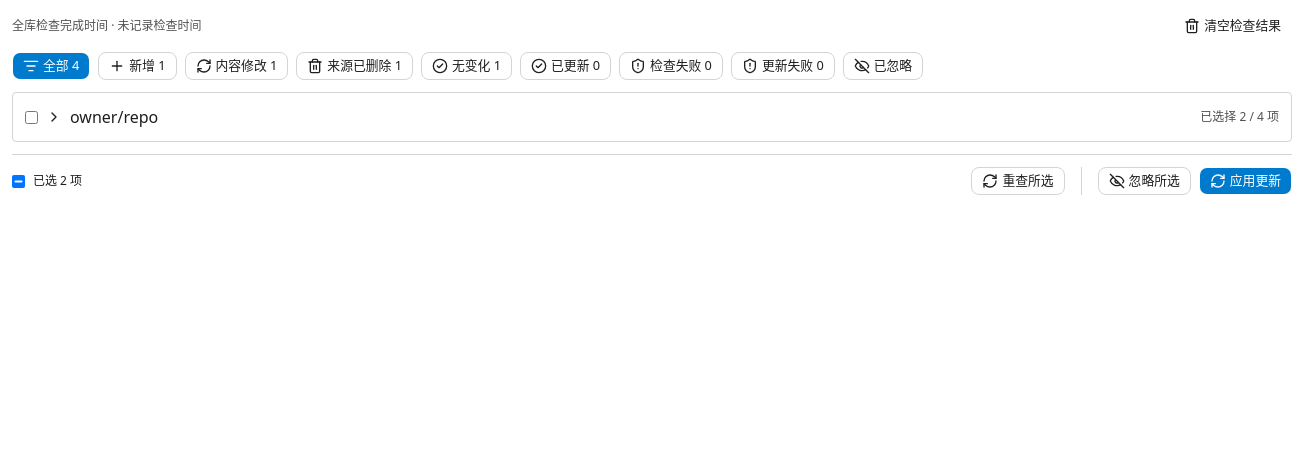
shows unchanged items under All and clears the check report without deleting skills
Expected: the button "全部 4" is shown, [12, 52, 90, 80]
Click the button "owner/repo 已选择 2 / 4 项" at {"x": 114, "y": 117}, box [46, 105, 1279, 129]
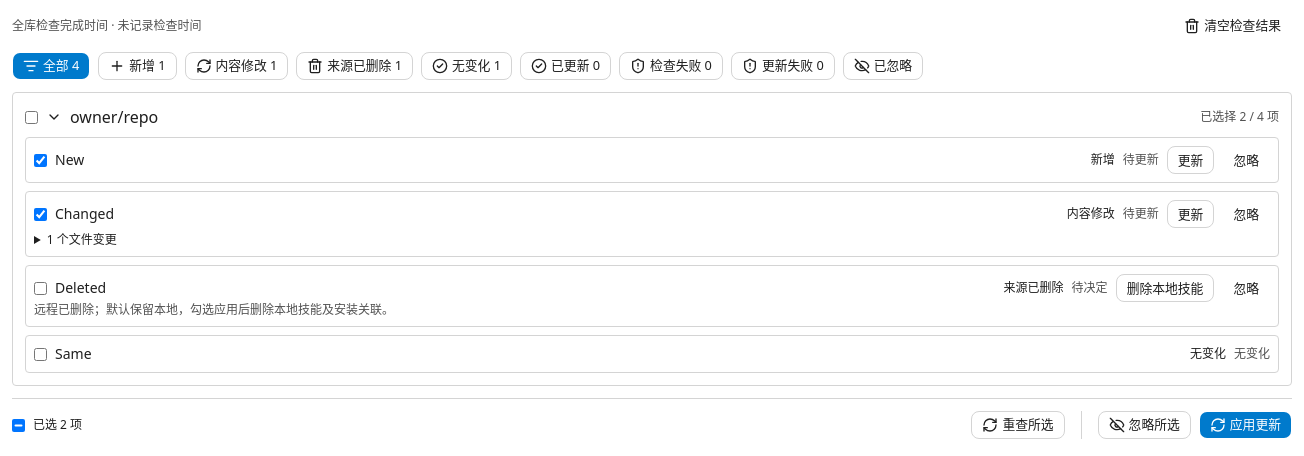
Result: the text "Same" is shown at [55, 344, 92, 364]
Click the button "清空检查结果" at {"x": 1233, "y": 26}, box [1173, 12, 1292, 40]
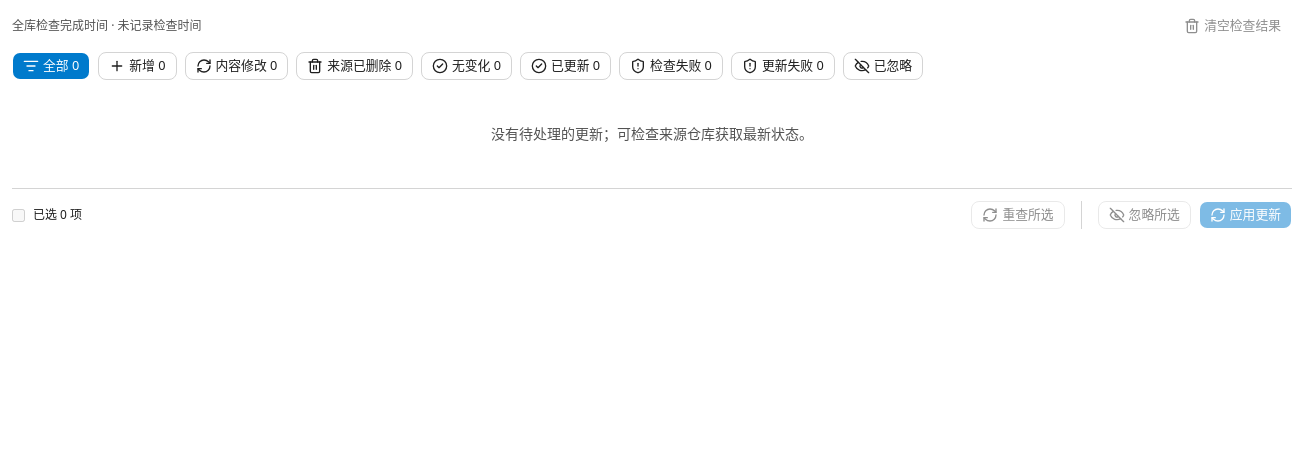
Result: the button "owner/repo" is gone
